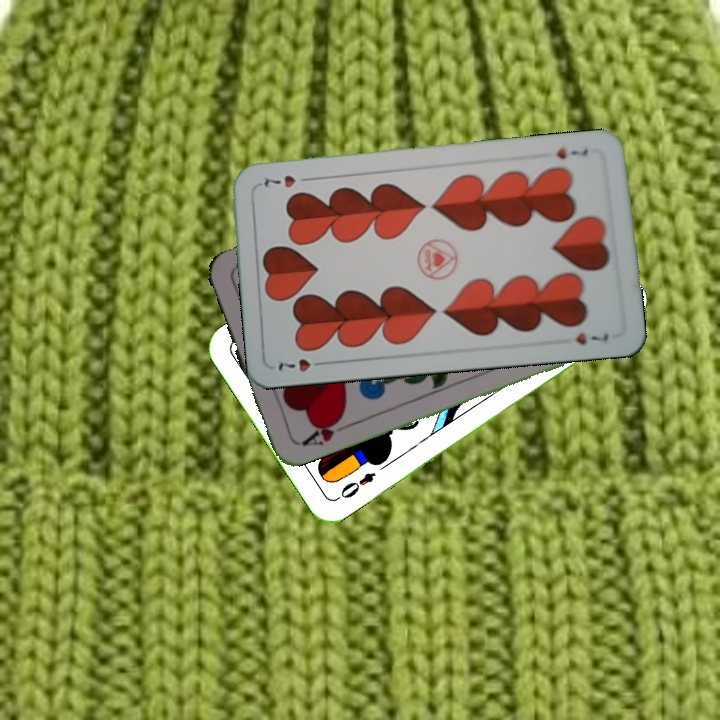EO: (332, 468, 379, 503)
H7: (271, 355, 331, 375), (552, 144, 591, 162)
HA: (295, 412, 353, 449)
